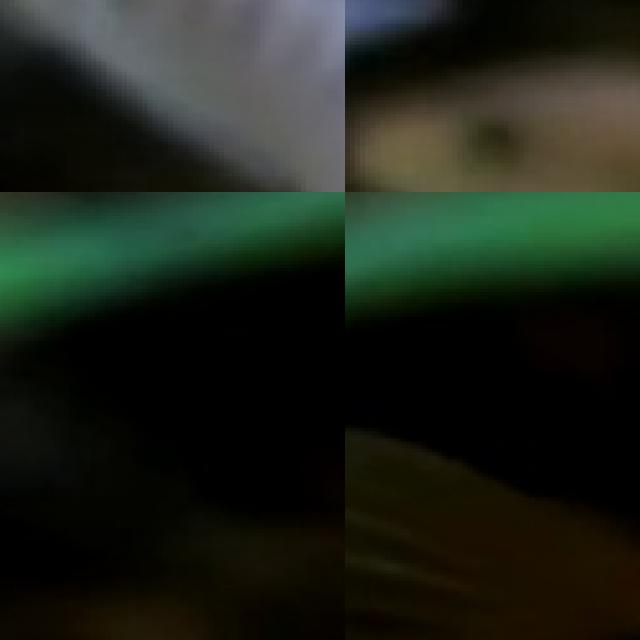fish: (345, 389, 640, 640), (0, 0, 345, 192), (345, 44, 640, 192)
